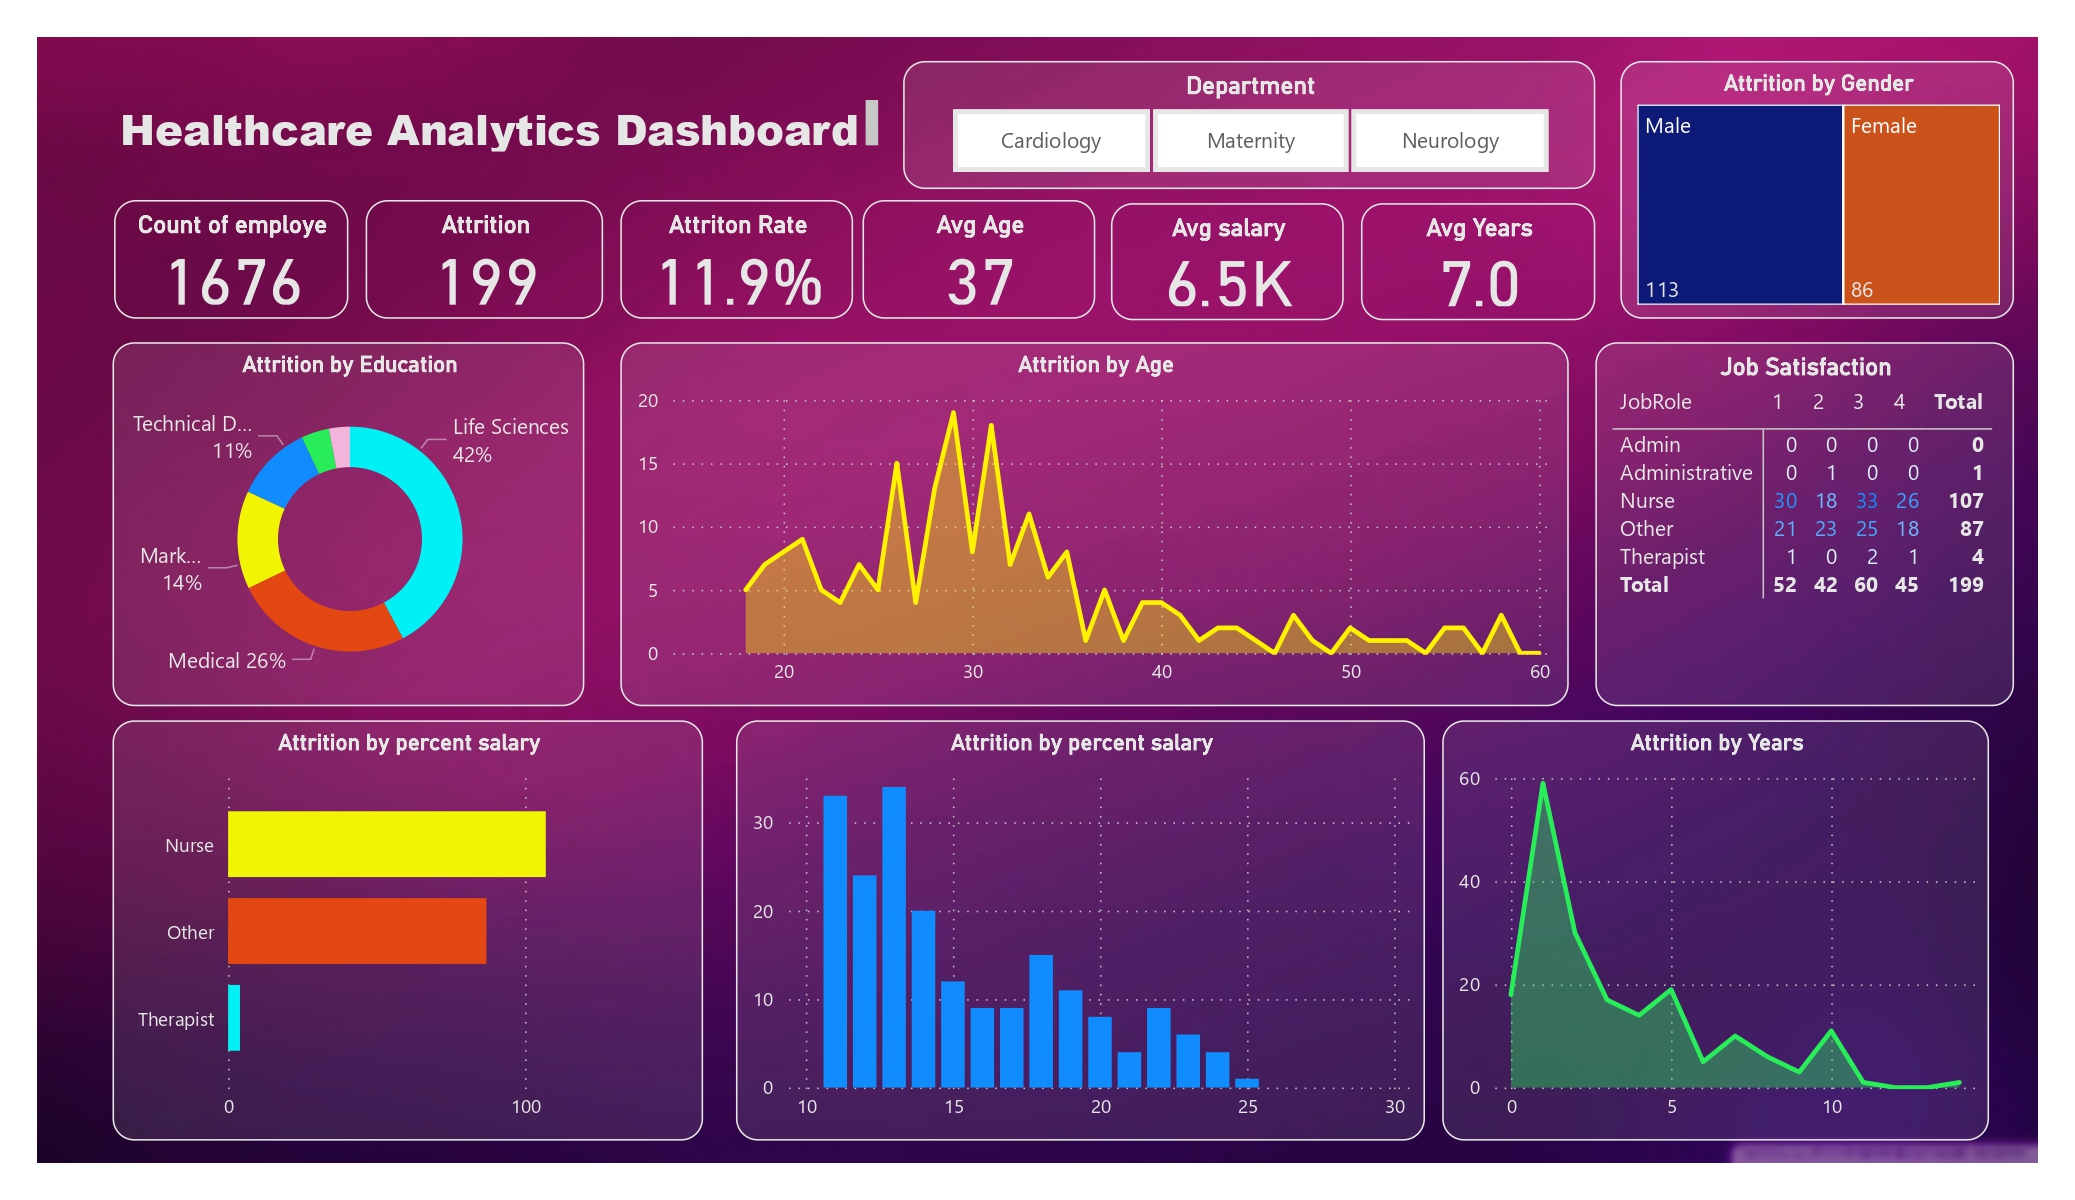

Layout of this report page (visuals, bound fields, positions):
{"tool":"powerbi","page":{"name":"Page 1","canvas":[1280,720],"ordinal":0},"visuals":[{"type":"card","title":"Count of employe","fields":{"Values":["CountNonNull(watson_healthcare_modified.EmployeeID)"]},"box":[49.4,104.2,149.4,75.4],"z":0},{"type":"card","title":"Attrition","fields":{"Values":["Sum(watson_healthcare_modified.CountAttrition)"]},"box":[209.8,104.2,152.2,75.4],"z":1000},{"type":"card","title":"Attriton Rate","fields":{"Values":["watson_healthcare_modified.AttritionRate"]},"box":[372.9,104.2,149.4,75.4],"z":2000},{"type":"card","title":"Avg Age","fields":{"Values":["Avg(watson_healthcare_modified.Age)"]},"box":[527.9,104.2,149.4,75.4],"z":3000},{"type":"card","title":"Avg salary","fields":{"Values":["Avg(watson_healthcare_modified.MonthlyIncome)"]},"box":[686.9,105.6,149.4,75.4],"z":4000},{"type":"card","title":"Avg Years","fields":{"Values":["Avg(watson_healthcare_modified.YearsAtCompany)"]},"box":[847.3,105.6,149.4,75.4],"z":5000},{"type":"donutChart","title":"Attrition by Education","fields":{"Category":["watson_healthcare_modified.EducationField"],"Y":["Sum(watson_healthcare_modified.CountAttrition)"]},"box":[48,194.7,301.6,233.1],"z":6000},{"type":"areaChart","title":"Attrition by Age","fields":{"Category":["watson_healthcare_modified.Age"],"Y":["Sum(watson_healthcare_modified.CountAttrition)"]},"box":[372.9,194.7,607.4,233.1],"z":7000},{"type":"pivotTable","title":"Job Satisfaction","fields":{"Rows":["watson_healthcare_modified.JobRole"],"Columns":["watson_healthcare_modified.JobSatisfaction"],"Values":["Sum(watson_healthcare_modified.CountAttrition)"]},"box":[996.8,194.7,268.7,233.1],"z":8000},{"type":"columnChart","title":"Attrition by percent salary","fields":{"Category":["watson_healthcare_modified.PercentSalaryHike"],"Y":["Sum(watson_healthcare_modified.CountAttrition)"]},"box":[447,437.4,441.5,268.7],"z":9000},{"type":"barChart","title":"Attrition by percent salary","fields":{"Category":["watson_healthcare_modified.JobRole"],"Y":["Sum(watson_healthcare_modified.CountAttrition)"]},"box":[48,437.4,378.4,268.7],"z":10000},{"type":"areaChart","title":"Attrition by Years","fields":{"Category":["watson_healthcare_modified.YearsAtCompany"],"Y":["Sum(watson_healthcare_modified.CountAttrition)"]},"box":[899.4,437.4,349.6,268.7],"z":11000},{"type":"treemap","title":"Attrition by Gender","fields":{"Group":["watson_healthcare_modified.Gender"],"Values":["Sum(watson_healthcare_modified.CountAttrition)"]},"box":[1013.2,15.1,252.3,164.5],"z":12000},{"type":"slicer","title":"Department","fields":{"Values":["watson_healthcare_modified.Department"]},"box":[553.9,15.1,442.8,82.3],"z":12001},{"type":"textbox","box":[48,35,495,43],"z":12002}]}

Visuals, with their boxes in screenshot pixels (x1, y1, x2, y2):
"Count of employe" card: [115, 200, 348, 318]
"Attrition" card: [365, 200, 603, 318]
"Attriton Rate" card: [620, 200, 854, 318]
"Avg Age" card: [862, 200, 1096, 318]
"Avg salary" card: [1111, 202, 1344, 320]
"Avg Years" card: [1361, 202, 1595, 320]
"Attrition by Education" donutChart: [112, 342, 584, 706]
"Attrition by Age" areaChart: [620, 342, 1569, 706]
"Job Satisfaction" pivotTable: [1595, 342, 2015, 706]
"Attrition by percent salary" columnChart: [736, 721, 1426, 1141]
"Attrition by percent salary" barChart: [112, 721, 704, 1141]
"Attrition by Years" areaChart: [1443, 721, 1989, 1141]
"Attrition by Gender" treemap: [1621, 61, 2015, 318]
"Department" slicer: [903, 61, 1595, 190]
textbox: [112, 92, 886, 159]
